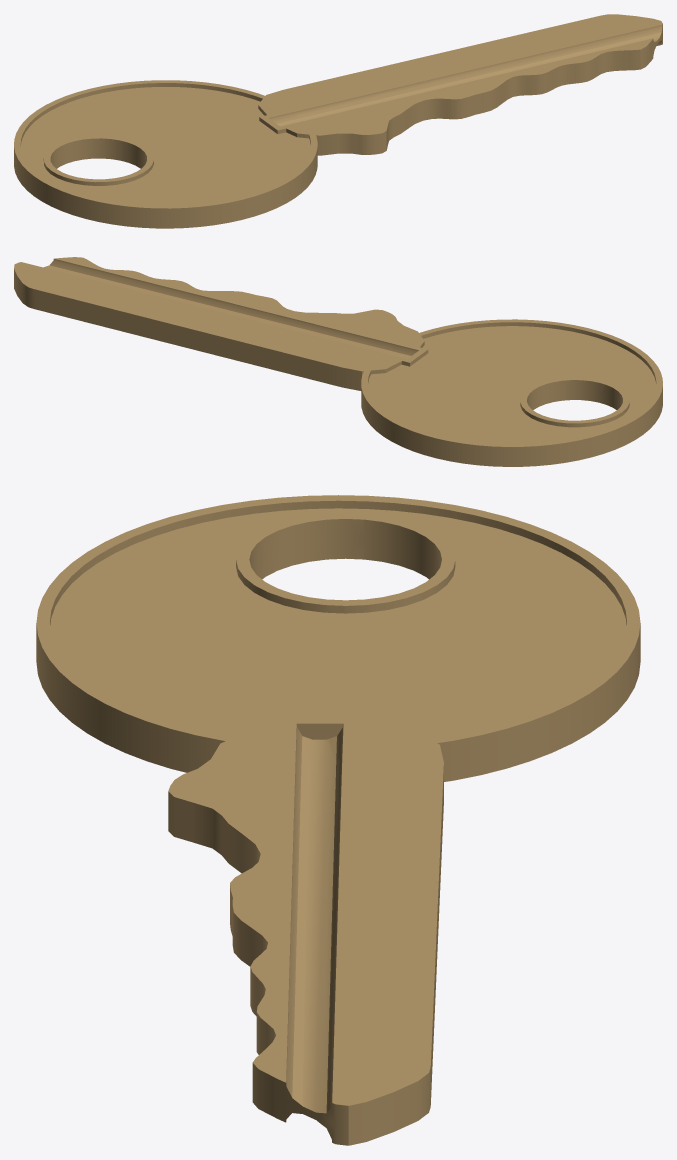
File: key.fbx
3 renders of one model, top to bottom at view 1: azimuth 30°, elevation 25°; view 2: azimuth 150°, elevation 25°; view 3: azimuth 270°, elevation 25°, orthographic. The views are drawn at different scales.
Visible parts, largest first — view 1: Circle.004; view 2: Circle.004; view 3: Circle.004.
Part boxes in pixels (<box>): Circle.004: <box>14,14,662,228</box>; Circle.004: <box>14,257,662,466</box>; Circle.004: <box>36,495,640,1145</box>.
Bounding box in the file's own units: 706 × 21.51 × 295.
